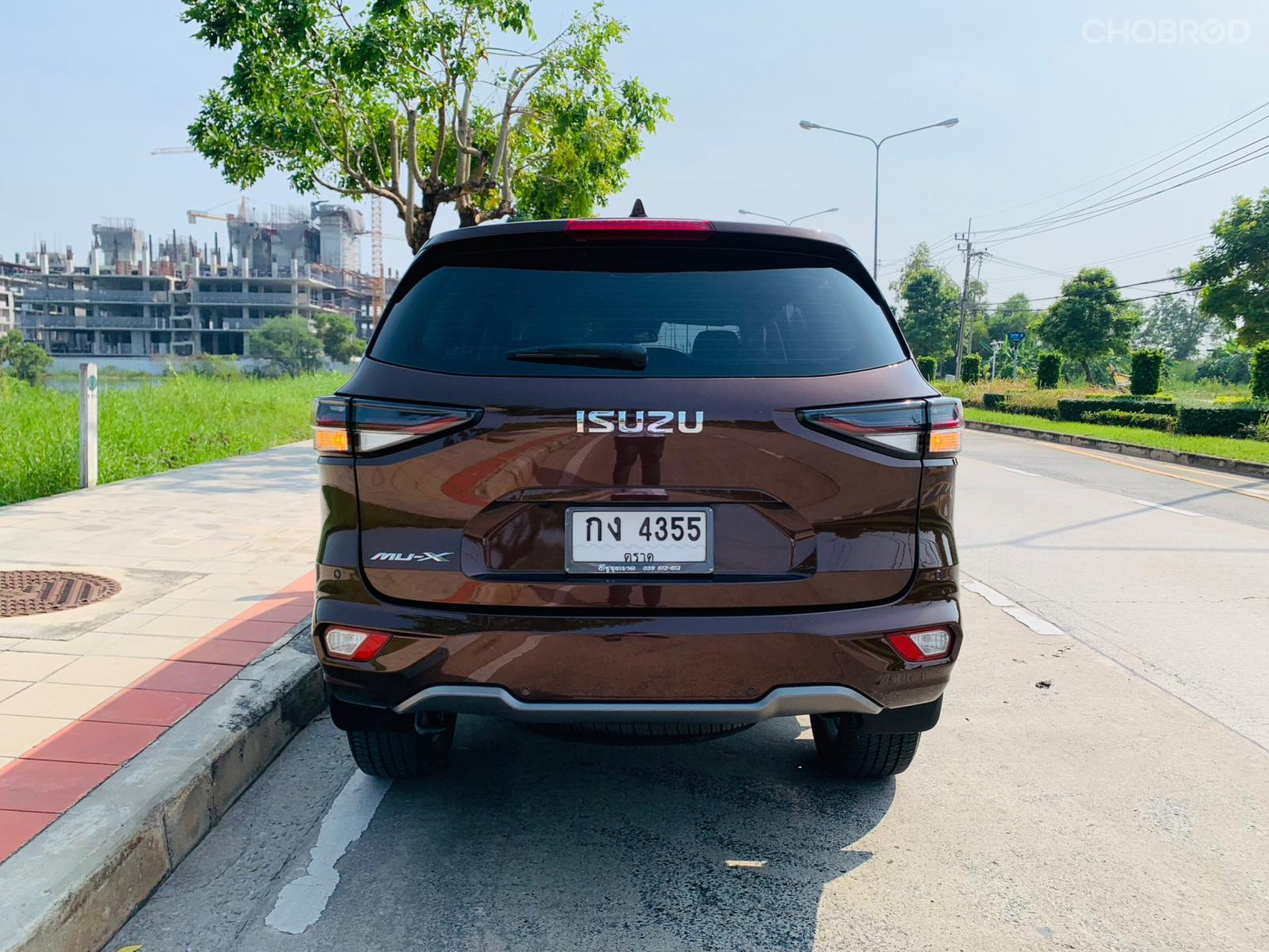license-plate: (553, 493, 725, 590)
